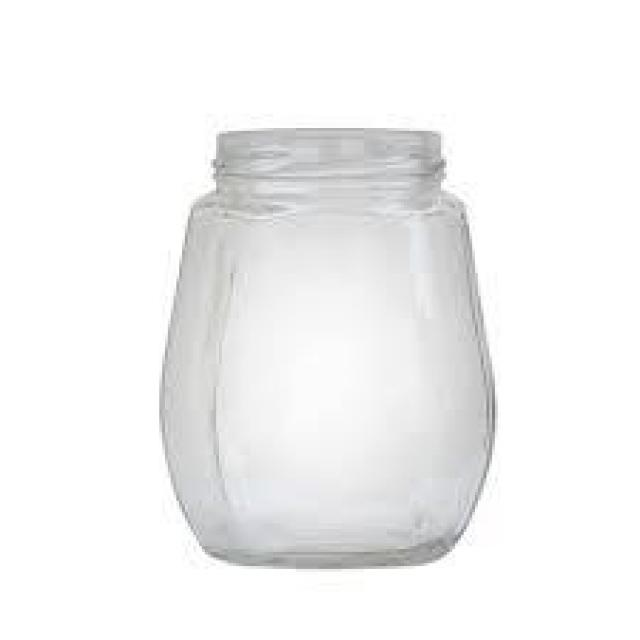non-organic waste: (157, 121, 500, 573)
